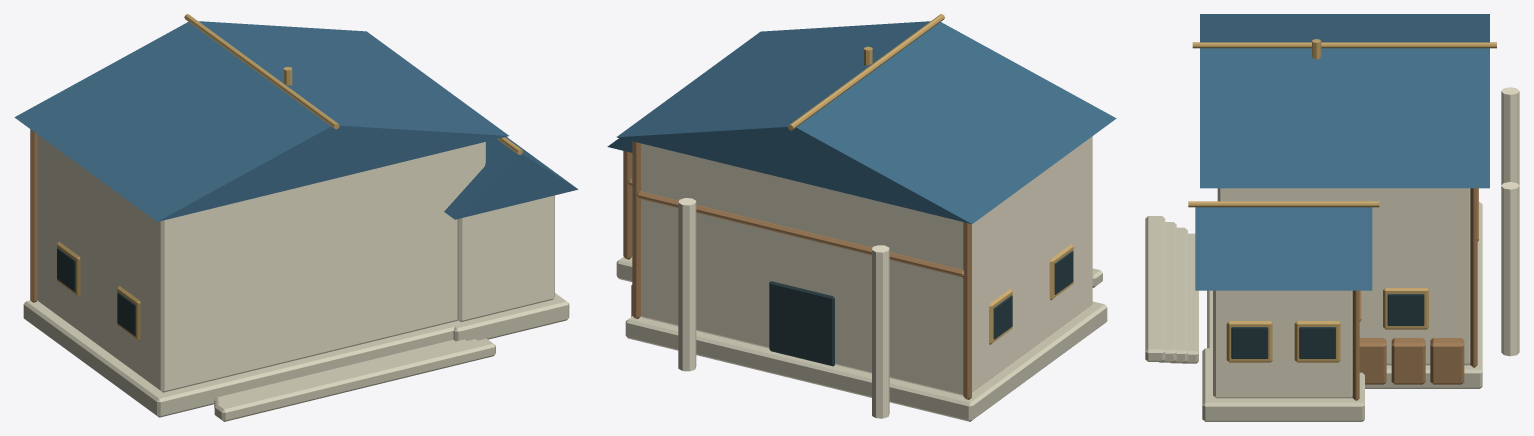
File: level_29.glb
3 views of the same model, side by side, from view 1: azimuth 30°, elevation 25°; view 2: azimuth 150°, elevation 25°; view 3: azimuth 270°, elevation 25° (orthographic).
Parts seen in each view (by area): view 1: warehouse — level 29; view 2: warehouse — level 29; view 3: warehouse — level 29.
Part boxes in pixels (x1,y1,x2,y2): warehouse — level 29: (14, 14, 578, 421); warehouse — level 29: (607, 14, 1116, 421); warehouse — level 29: (1145, 14, 1519, 421).
Size of the model in its own units: 6.94 by 4.21 by 5.29.
